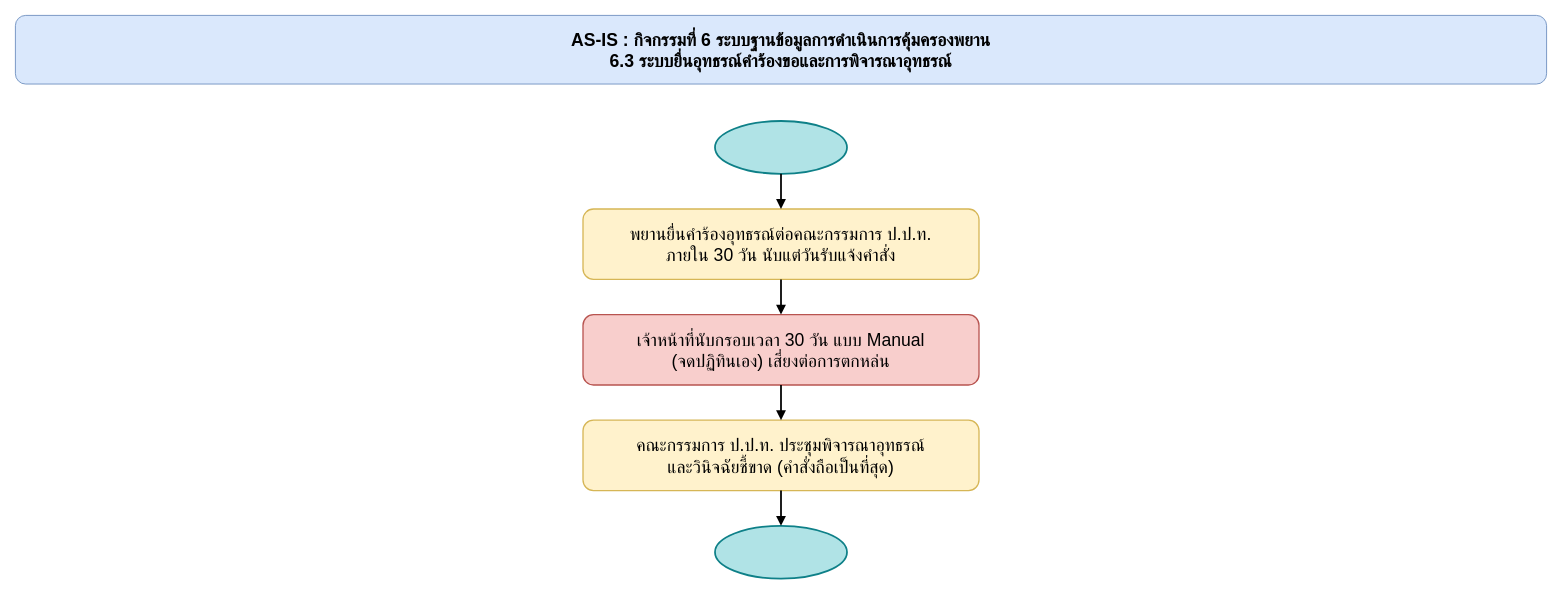
The diagram is 1562 pixels wide and 595 high, and some of its shapes have lost their labels. The shapes that lost their labels are listed below. From the top down, each one's centre as x and y in pixels, then its label:
(780,147): เริ่มต้น
(780,551): สิ้นสุด
